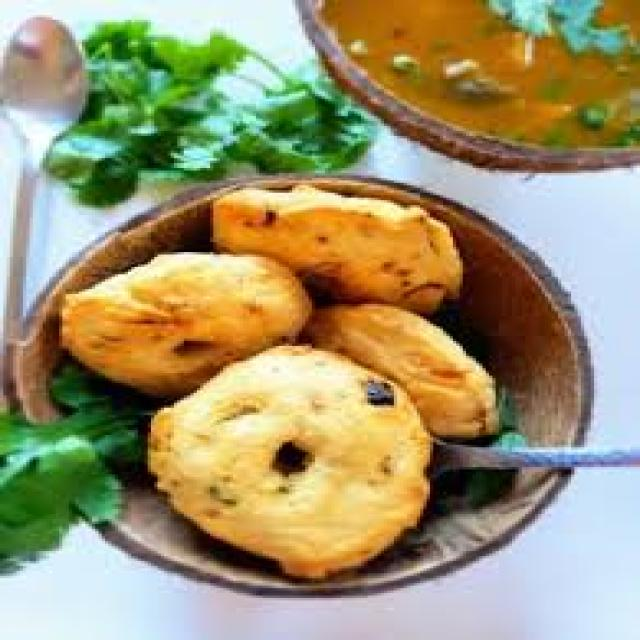MEDU VADA: (148, 348, 430, 573), (62, 252, 309, 393), (213, 183, 456, 311), (312, 304, 496, 435)
